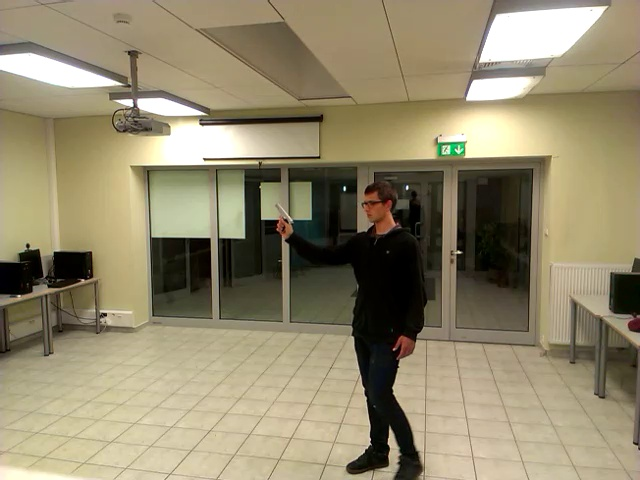gun: (265, 184, 317, 252)
